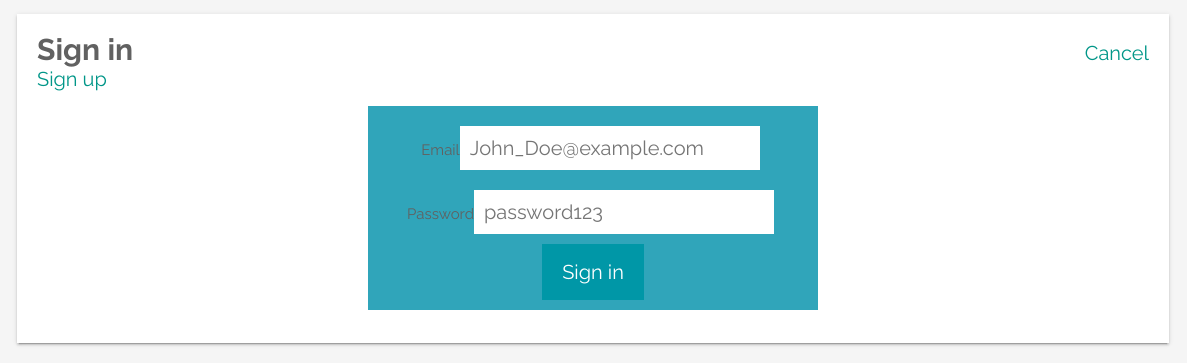
Test: AuthForm Component › Loading state › should show spinner when loading
The image size is (1187, 363).
Type "test@example.com" into the field labelled "Email".
click(610, 148); type("test@example.com")  # box top-left (460, 126), bottom-right (760, 170)
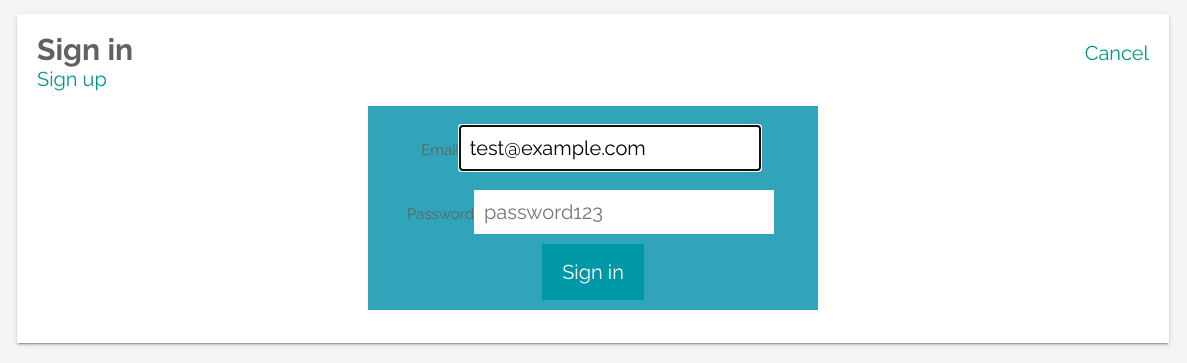
Type "password123" into the password field labelled "Password".
click(624, 212); type("password123")  # box top-left (474, 190), bottom-right (774, 234)
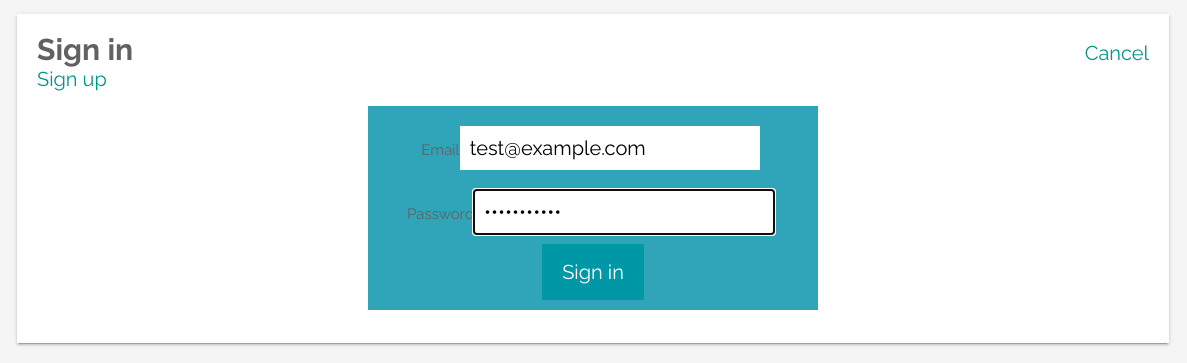
Click the button "Sign in".
click(593, 272)  # box top-left (542, 244), bottom-right (644, 300)
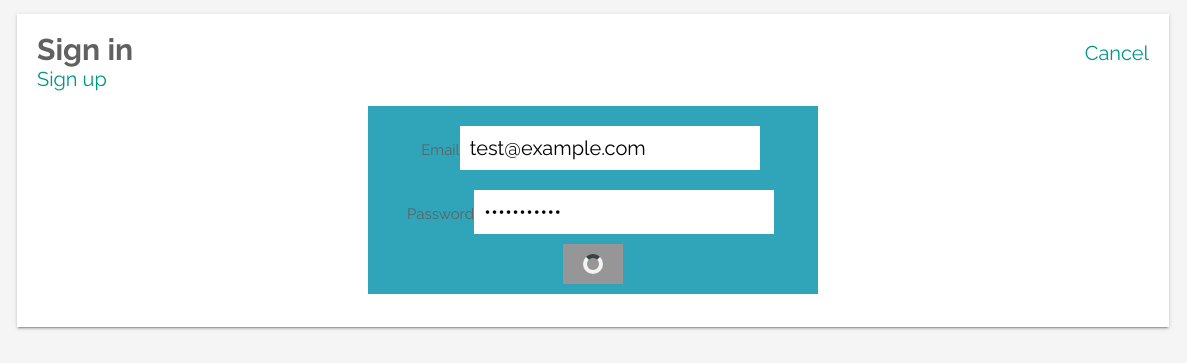
Check: the element with class "spinner" is shown, box top-left (583, 254), bottom-right (603, 274)
